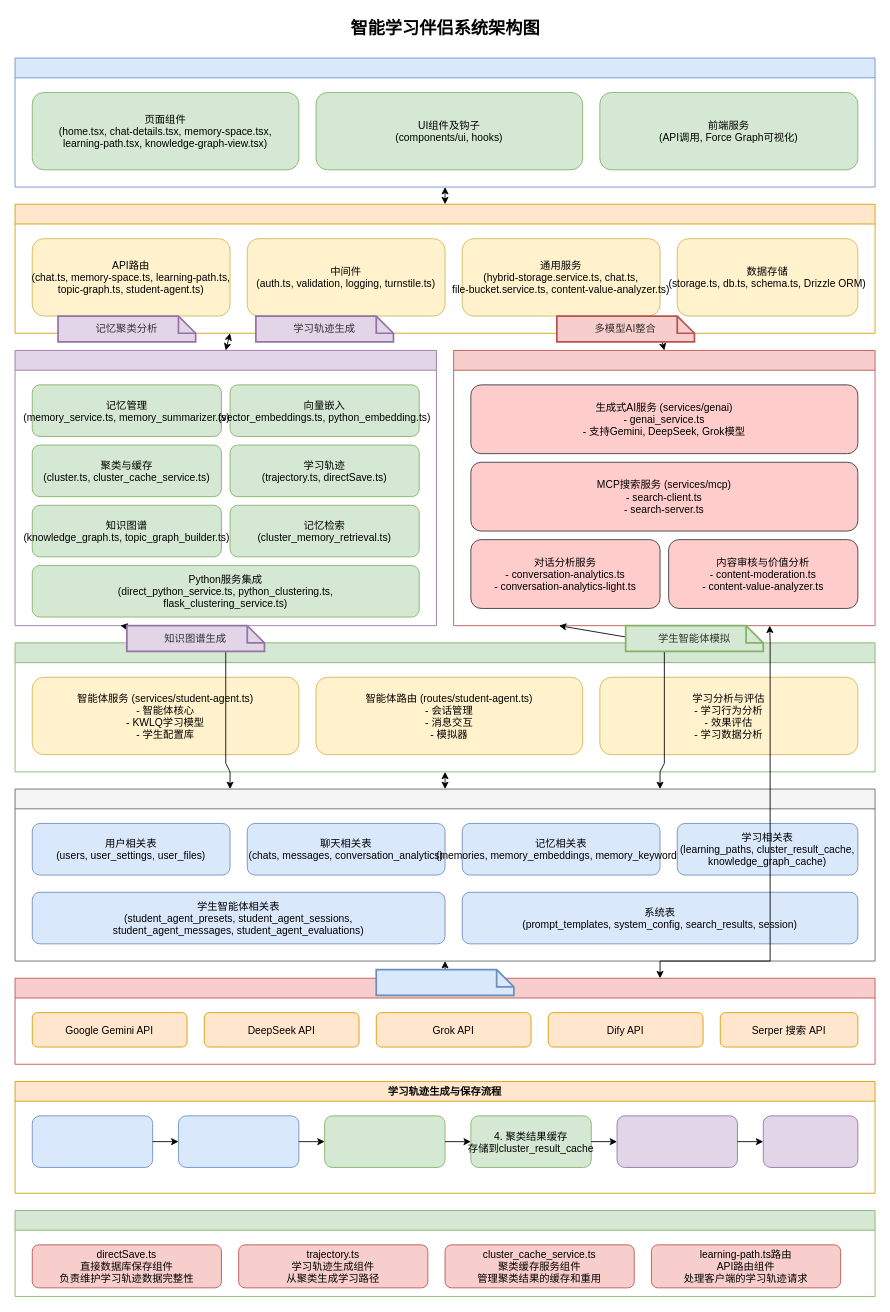
The diagram is 890 pixels wide and 1312 high, and some of its shapes have lost their labels. The box of each missing label's shape, as (x1, y1, x2, y2) in pixels:
1. 用户学习活动 生成记忆数据: (31, 1115, 153, 1167)
2. 向量化处理 生成记忆向量嵌入: (178, 1115, 299, 1167)
3. 聚类分析 在向量空间实现聚类: (324, 1115, 445, 1167)
5. 生成学习轨迹 包含主题和建议: (616, 1115, 737, 1167)
6. 保存到数据库 存储到learning_paths表: (762, 1115, 858, 1167)
AI模型服务: (453, 350, 875, 626)
PostgreSQL数据存储: (375, 968, 514, 996)
PostgreSQL数据库: (14, 788, 875, 961)
前端层 (React + TypeScript): (14, 57, 875, 187)
后端层 (Express + TypeScript): (14, 203, 875, 333)
学习系统核心: (14, 350, 436, 626)
学生智能体系统: (14, 642, 875, 772)
核心组件流程科目起始: (14, 1210, 875, 1296)
